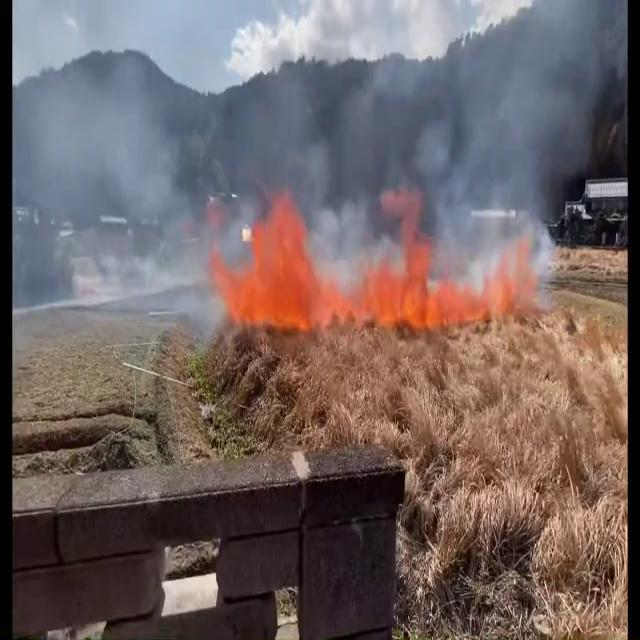Fire: (350, 223, 480, 329), (231, 190, 325, 332), (491, 240, 558, 320)
Smoke: (248, 2, 624, 280), (14, 14, 232, 364)
